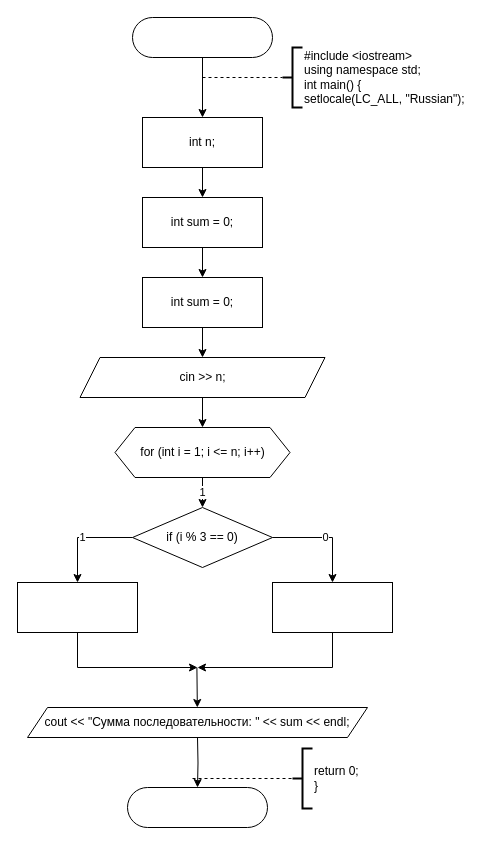
Some shapes in this 483 by 845 pixel diagram are drawn without their labels. The shapes that lost their labels are listed below. From the top down, each one's box as (x1, y1, x2, y2) in pixels, then its label:
(132, 16, 272, 58): Запуск
(16, 582, 138, 632): sum -= i;
(272, 582, 392, 632): sum += i;
(126, 786, 268, 828): Конец
